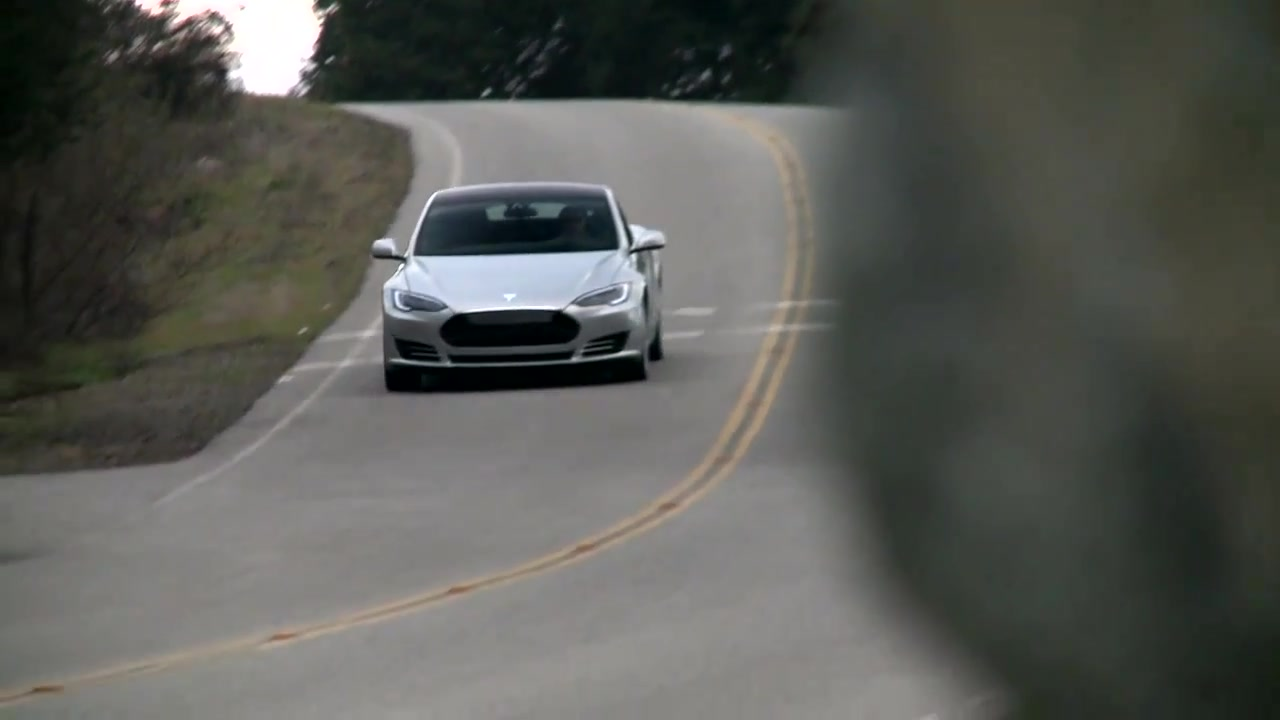car: (366, 181, 673, 387)
